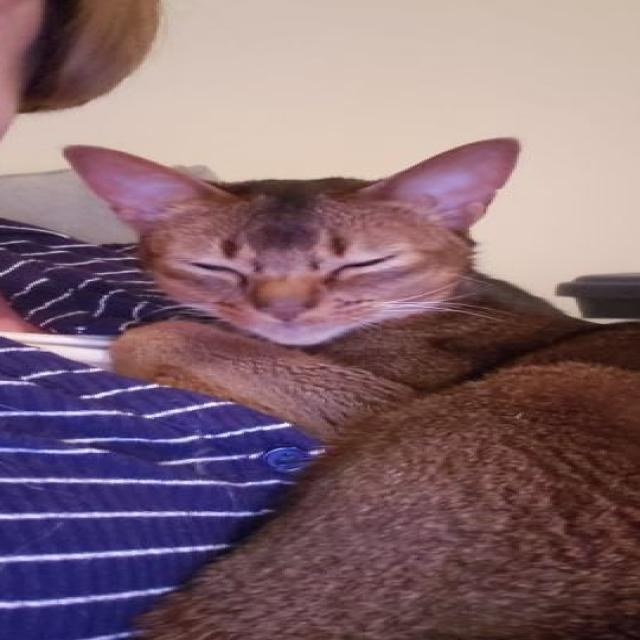Abyssinian: (50, 133, 640, 640)
